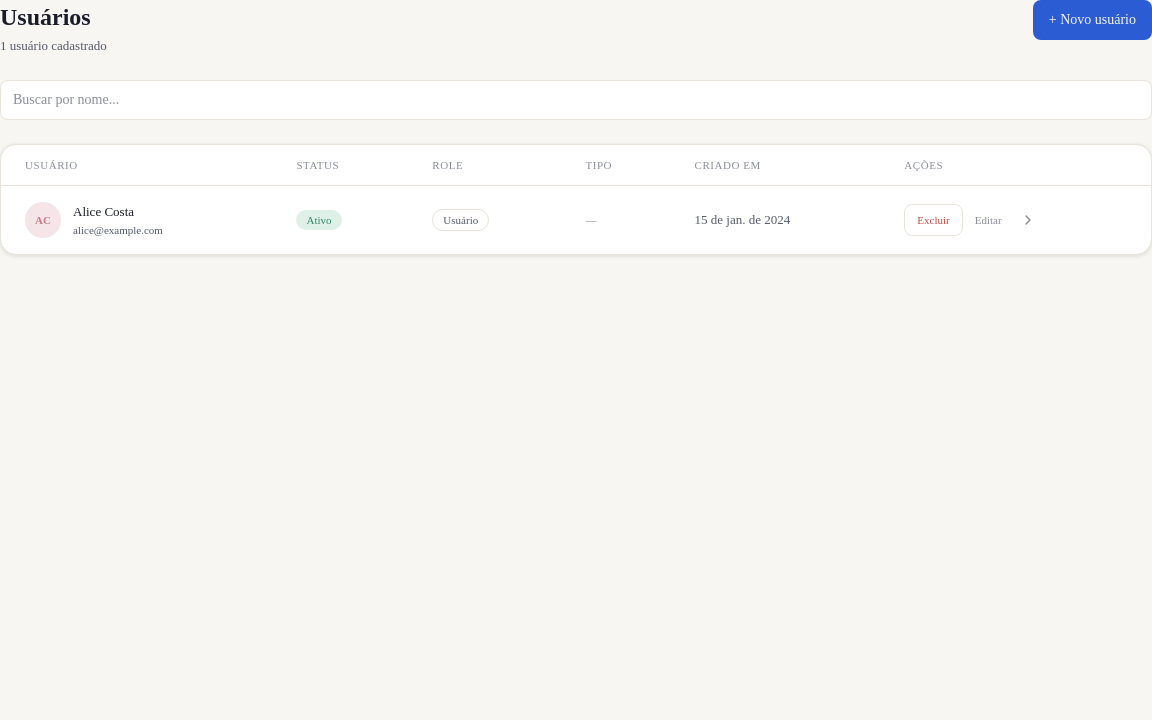
it: UserList (integration) › closes delete dialog when cancel is clicked
Expected: the table with test id "user-list-table" is shown, top-left (1, 145), bottom-right (1151, 254)
Click the button with test id "user-delete-button-uuid-1".
click(934, 220)  # box top-left (904, 204), bottom-right (963, 236)
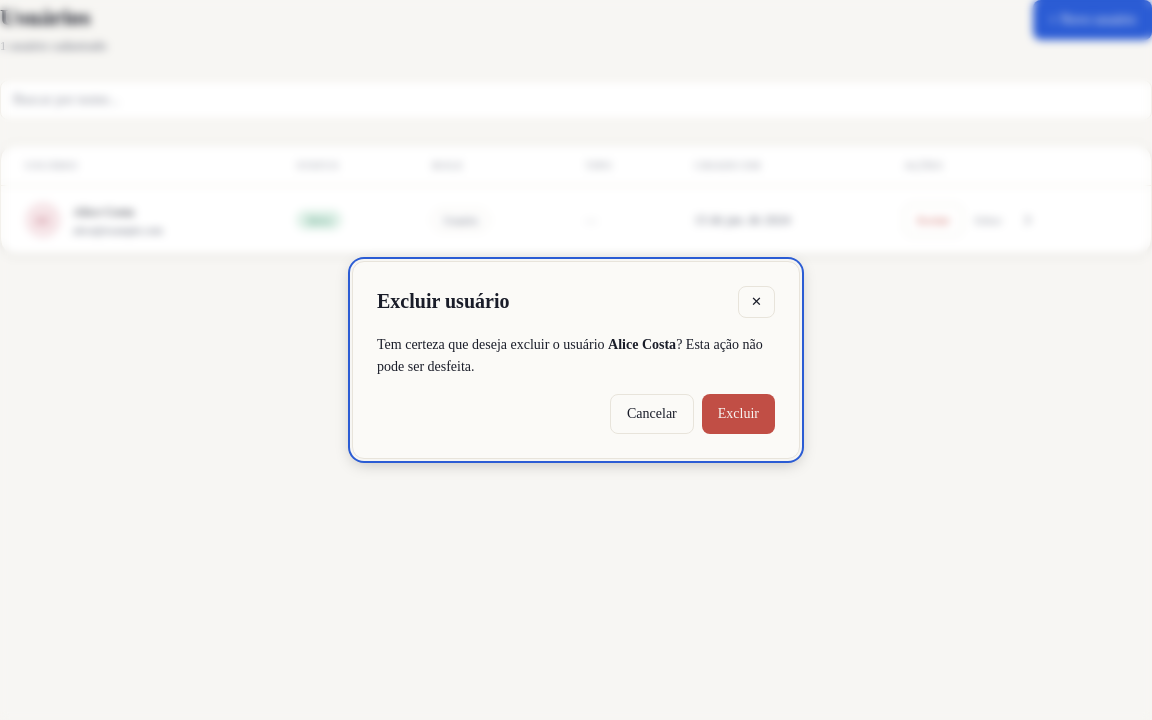
Expected: the button with test id "delete-user-dialog-cancel" is shown
Click the button with test id "delete-user-dialog-cancel".
click(652, 414)  # box top-left (610, 394), bottom-right (694, 434)
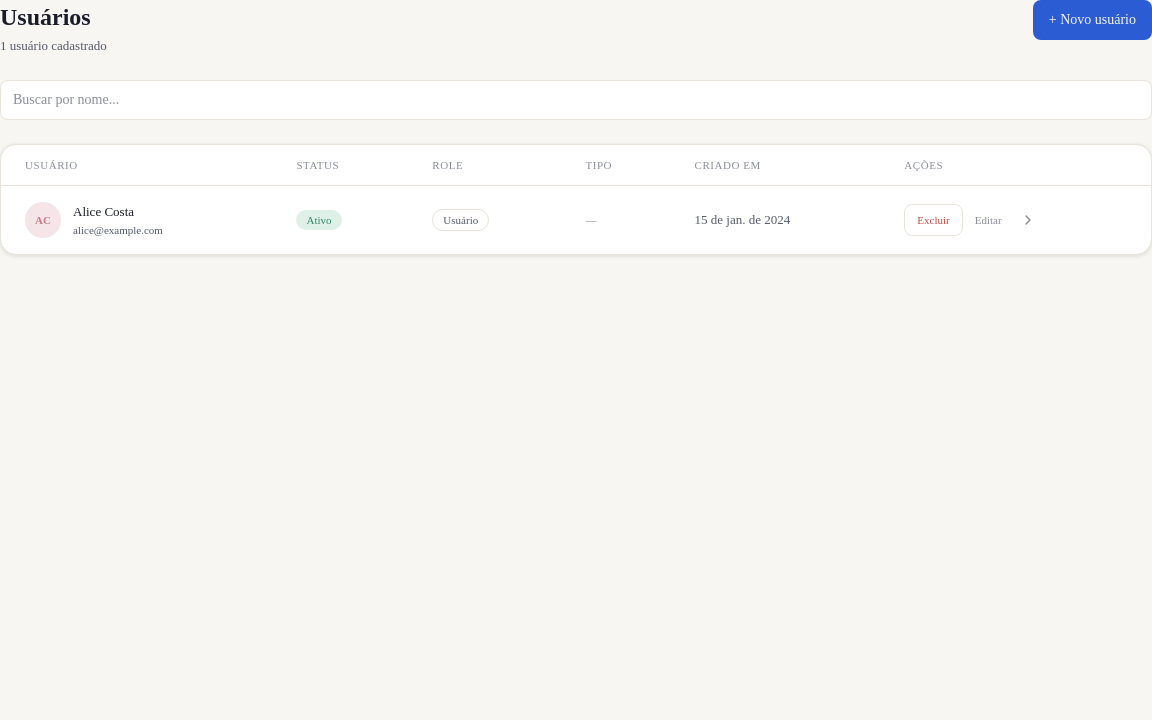
Expected: the button with test id "delete-user-dialog-cancel" is gone
